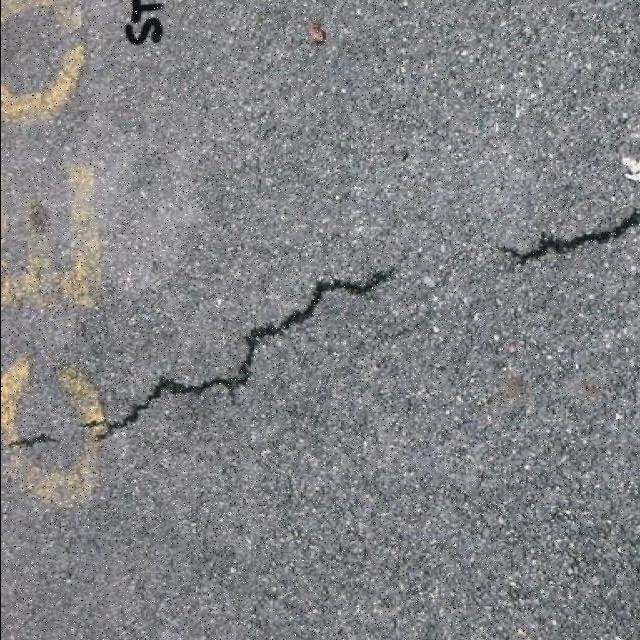Crack: (98, 263, 398, 440), (498, 207, 639, 266)
